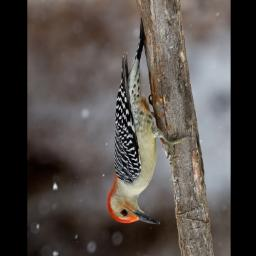Woodpecker: (107, 20, 190, 225)
